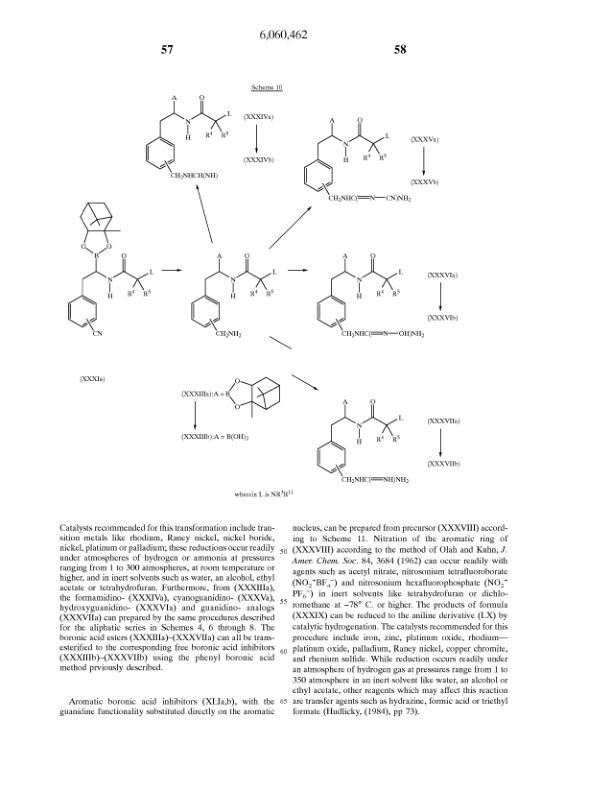compound-structure: (58, 198, 157, 336), (313, 245, 425, 347), (298, 111, 410, 204), (313, 395, 410, 488), (138, 90, 240, 178), (188, 247, 278, 342), (175, 368, 287, 418)
reaction: (46, 66, 502, 508)
reaction-arrow: (261, 206, 315, 247), (194, 185, 218, 244), (288, 371, 318, 396), (414, 147, 431, 175), (285, 262, 309, 281), (160, 263, 186, 279), (191, 397, 201, 429), (250, 123, 262, 149), (437, 428, 443, 457), (437, 285, 443, 311)
